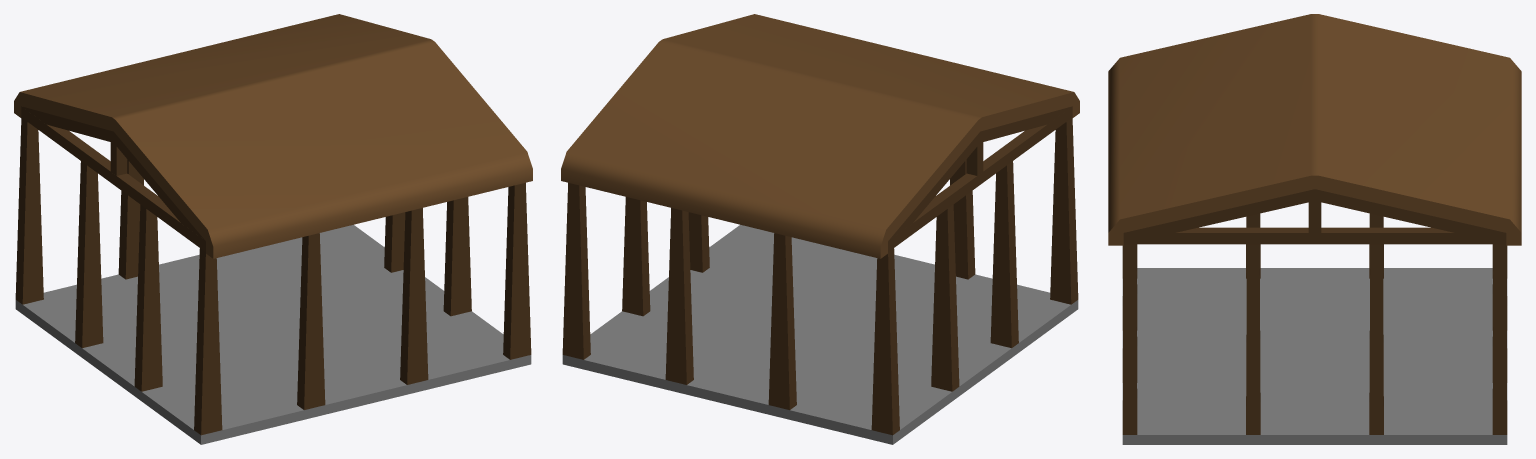
The model's file is Pergolas and open houses.glb.
The picture shows the model from 3 angles, left to right: view 1: azimuth 30°, elevation 25°; view 2: azimuth 150°, elevation 25°; view 3: azimuth 270°, elevation 25°; orthographic projection. The views are drawn at different scales.
Parts seen in each view (by area): view 1: Root; view 2: Root; view 3: Root.
Boxes of the visible parts, bbox=[...] form: Root: bbox=[14, 14, 532, 444]; Root: bbox=[561, 14, 1079, 444]; Root: bbox=[1108, 14, 1521, 444].
Bounding box in the file's own units: 4.25 × 3.16 × 4.44.
